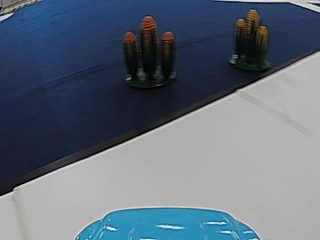corn: (121, 15, 176, 91), (230, 6, 272, 71)
